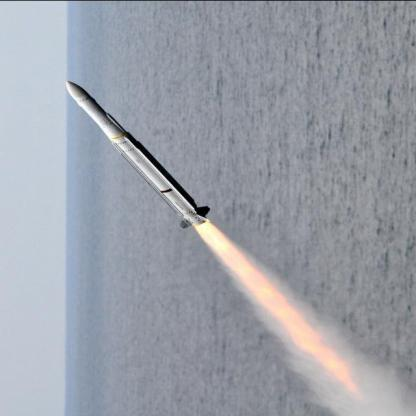MIL_TBM: (57, 64, 215, 230)
